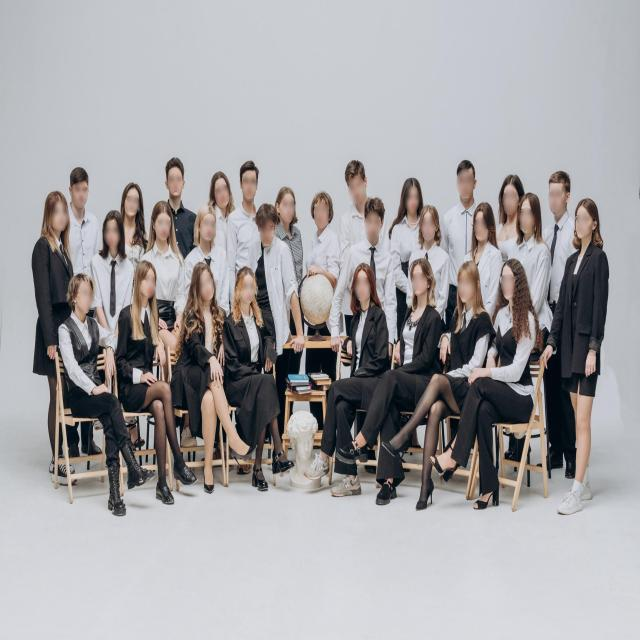Person: (439, 256, 546, 515), (544, 194, 613, 538), (56, 272, 137, 541), (116, 256, 196, 513), (222, 265, 300, 509), (312, 259, 384, 519), (414, 259, 499, 470), (26, 184, 80, 516), (376, 253, 446, 469), (176, 261, 238, 498), (249, 200, 304, 332), (183, 191, 236, 318), (90, 206, 134, 356), (144, 199, 196, 315), (233, 142, 271, 276), (541, 150, 575, 298), (208, 165, 248, 288), (354, 199, 399, 302), (328, 155, 374, 253), (63, 159, 99, 278), (161, 151, 201, 258), (304, 184, 344, 291), (516, 188, 549, 307), (273, 178, 307, 293), (114, 175, 150, 278), (414, 198, 451, 296), (493, 163, 529, 259), (462, 194, 496, 281), (390, 168, 425, 251), (448, 162, 482, 242)
